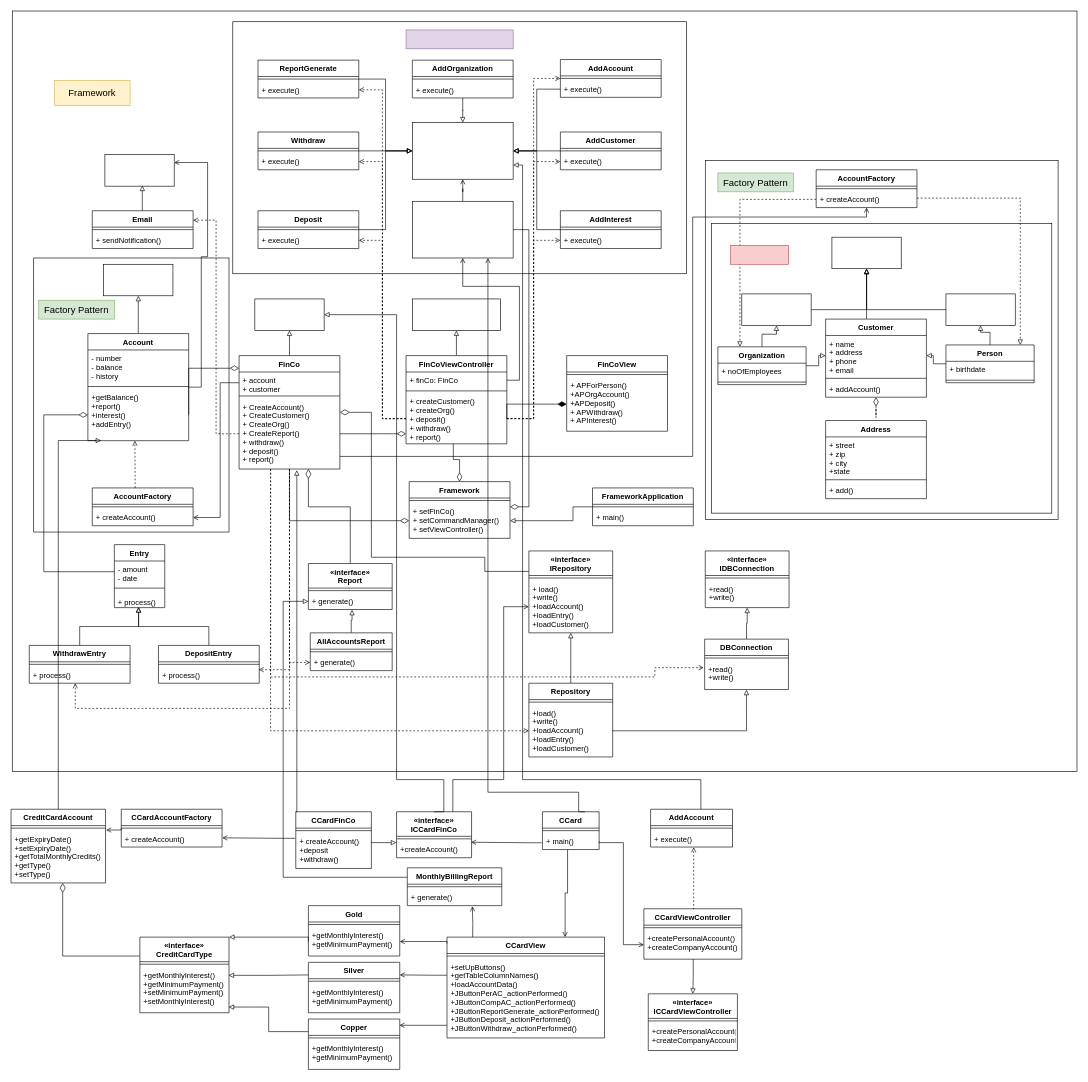
Some shapes in this 1088 by 1082 pixel diagram are drawn without their labels. Each missing label, with the centre of its shape:
Command Pattern: point 459,39
CommandManager + invoke(): point 462,229
Party Pattern: point 759,254
«interface» IAccount: point 138,280
«interface» ICommand: point 462,150
«interface» ICustomer: point 866,253
«interface» IFinco: point 289,314
«interface» IFinCoViewController: point 456,314
«interface» INotification: point 139,170
«interface» IOrganization: point 776,309
«interface» IPerson: point 980,309
